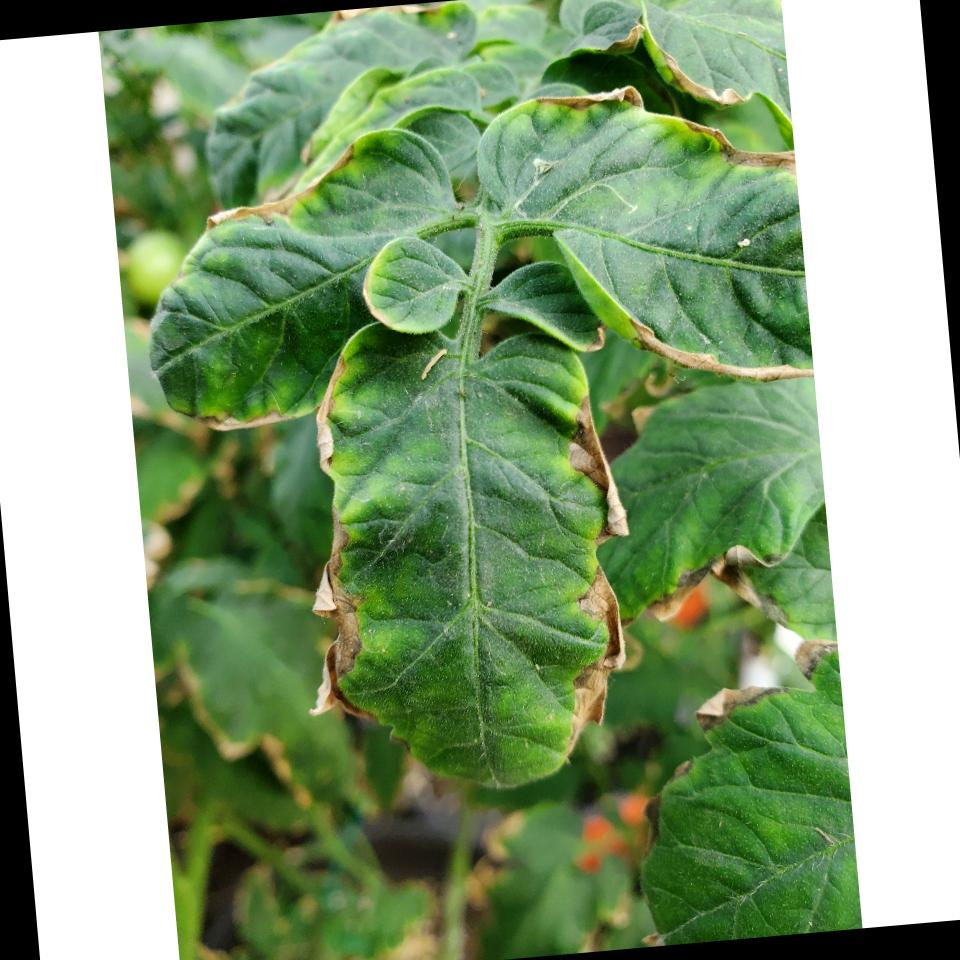tomato_bacterial_blight: (276, 298, 655, 812), (532, 64, 814, 406), (610, 627, 862, 948), (180, 184, 336, 445)
